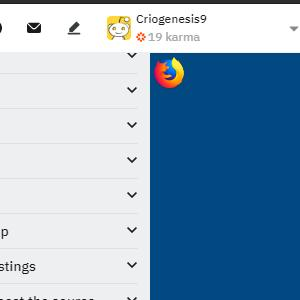firefox: (154, 56, 184, 89)
